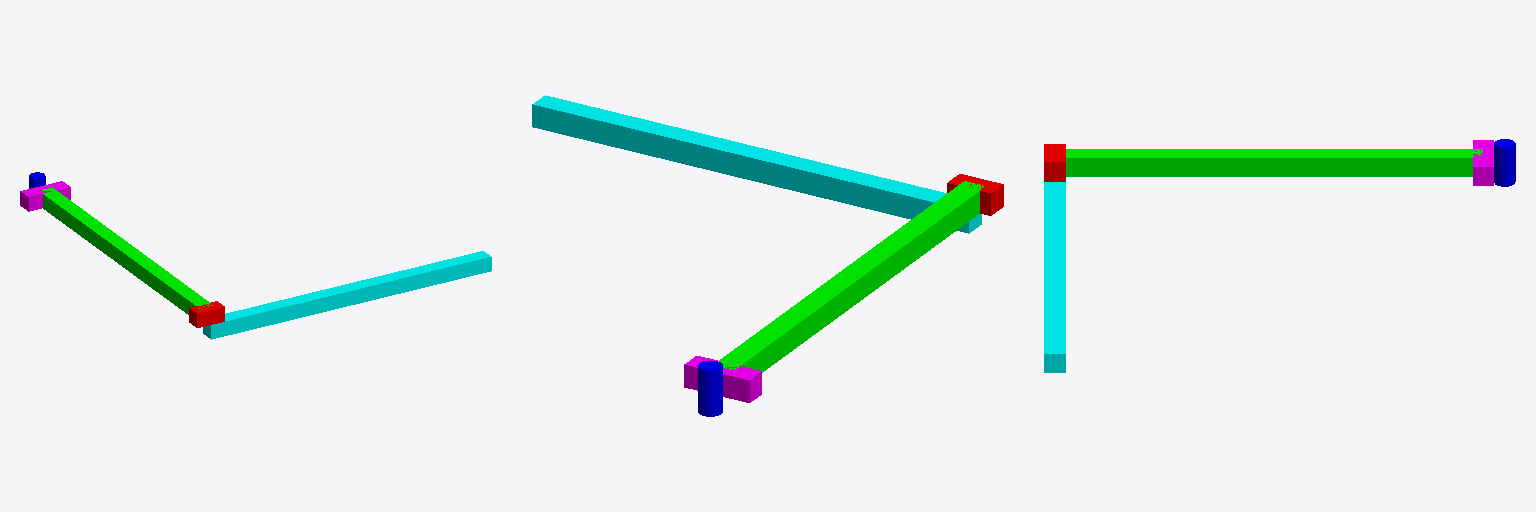
URDF robot description (cncrobotsimple):
<?xml version="1.0"?>
<!-- 
	this URDF file made by massyakur 
	for "Robotlar icin Matematik Temelleri" lesson
	Project 1
 -->
<robot name="cncrobotsimple">
  
  <!-- Colors -->
	<material name="red">
		<color rgba="1 0 0 0.1" />
	</material>
	<material name="green">
		<color rgba="0 1 0 0.1" />
	</material>
	<material name="blue">
		<color rgba="0 0 1 0.1" />
	</material>
	<material name="aqua">
		<color rgba="0 1 1 0.1" />
	</material>
	<material name="purple">
		<color rgba="1 0 1 0.1" />
	</material>

  <!-- Links -->
  <link name="base_link" />

  <link name="link0">
    <visual>
      <geometry>
        <box size="2 0.1 0.1" />
      </geometry>
      <origin xyz="0 0 0" />
      <material name="aqua" />
    </visual>
  </link>

  <link name="link1">
    <visual>
      <geometry>
        <box size="0.2 0.1 0.1" />
      </geometry>
      <origin xyz="0 0 0" />
      <material name="red" />
    </visual>
  </link>

  <link name="link2">
    <visual>
      <geometry>
        <box size="0.1 2 0.1" />
      </geometry>
      <origin xyz="0 0 0" />
      <material name="green" />
    </visual>
  </link>

  <link name="link3">
    <visual>
      <geometry>
        <box size="0.3 0.1 0.1" />
      </geometry>
      <origin xyz="0 0 0" />
      <material name="purple" />
    </visual>
  </link>

  <link name="end">
    <visual>
      <geometry>
        <cylinder radius = "0.05" length="0.2" />
      </geometry>
      <material name="blue" />
    </visual>
  </link>

  <!-- Joints -->
  <joint name="q0" type="fixed">
    <parent link="base_link" />
    <child link="link0" />
    <axis xyz="0 0 0" />
  </joint>

  <joint name="q1" type="prismatic">
    <parent link="link0" />
    <child link="link1" />
    <limit effort="100" velocity="1.0" lower="0" upper="2" />
    <origin xyz="-1 0 0.1" />
    <axis xyz="1 0 0" />
  </joint>
  
  <joint name="q2" type="prismatic">
    <parent link="link1" />
    <child link="link2" />
    <limit effort="100" velocity="1.0" lower="-1.8" upper="0" />
    <origin xyz="0 1 0" />
    <axis xyz="0 1 0" />
  </joint>

  <joint name="q3" type="revolute">
    <parent link="link2" />
    <child link="link3" />
    <limit lower="-1.57" upper="1.57" effort="10" velocity="1"/>
    <origin xyz="0 1 0" rpy="0 0 0" />
    <axis xyz="0 1 0" />
  </joint>  

  <joint name="notajoint" type="fixed">
    <parent link="link3" />
    <child link="end" />
    <origin xyz="0 0.1 0" />
  </joint>
  
</robot>

--- Render facts (derived) ---
Views: 3 orthographic renders of the robot side by side, from view 1: azimuth 30°, elevation 25°; view 2: azimuth 150°, elevation 25°; view 3: azimuth 270°, elevation 25°.
Model cncrobotsimple with 6 links and 5 joints (1 revolute, 2 prismatic, 2 fixed), rooted at base_link, posed all joints at 0.
Visible links, largest first — view 1: link0, link2, link3, link1; view 2: link0, link2, link3, end, link1; view 3: link2, link0, end, link3, link1.
Boxes of the visible links, x1,y1,x2,y2 form: link0: (203, 251, 491, 339); link2: (42, 187, 212, 314); link3: (20, 181, 70, 211); link1: (189, 301, 224, 327); link0: (532, 95, 981, 233); link2: (718, 181, 983, 372); link3: (684, 356, 761, 402); end: (698, 360, 722, 416); link1: (947, 174, 1003, 215); link2: (1066, 149, 1482, 176); link0: (1044, 182, 1065, 372); end: (1494, 139, 1515, 186); link3: (1473, 140, 1493, 185); link1: (1044, 144, 1065, 181).
Bounding box of the posed robot: 2.15 × 2.2 × 0.25 m (x, y, z).
Geometry: primitives only (box / cylinder / sphere), no mesh files.
